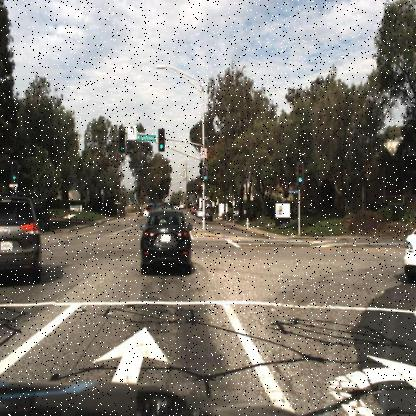car: (1, 188, 43, 288), (139, 203, 195, 276), (404, 222, 416, 278), (203, 205, 215, 224)
trafficLight-Green: (296, 160, 306, 188), (157, 128, 165, 152), (201, 164, 209, 184)
trafficLight-GreenLeft: (8, 158, 20, 185), (118, 129, 126, 156)
